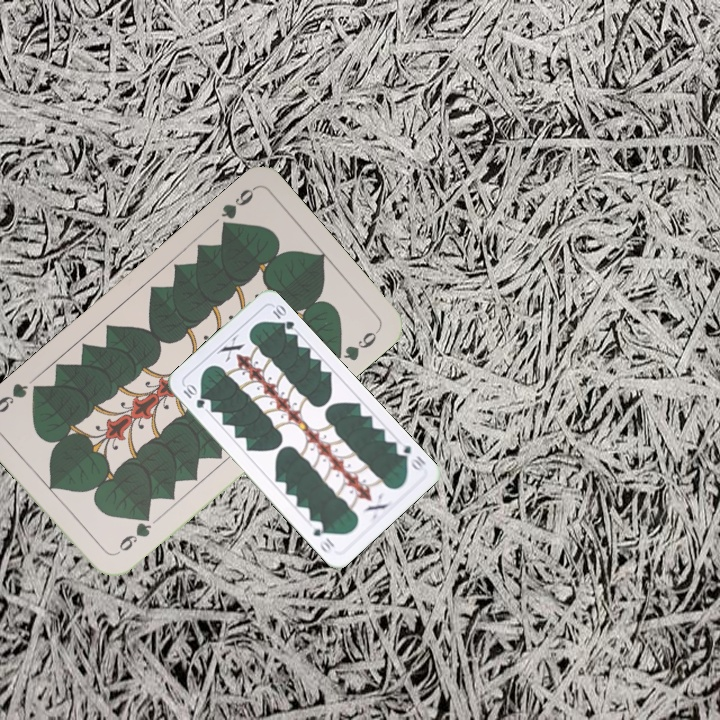G10: (392, 438, 429, 473), (179, 380, 208, 411)
G9: (217, 183, 258, 235), (112, 510, 155, 558)
